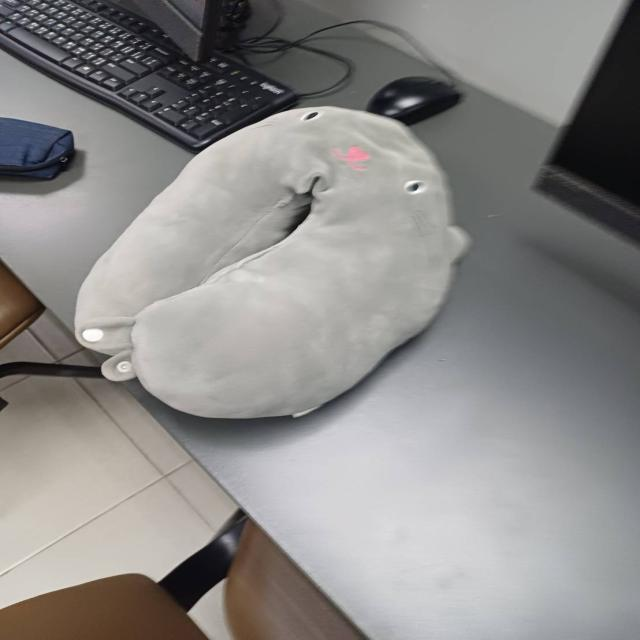pillow: (66, 97, 480, 434)
